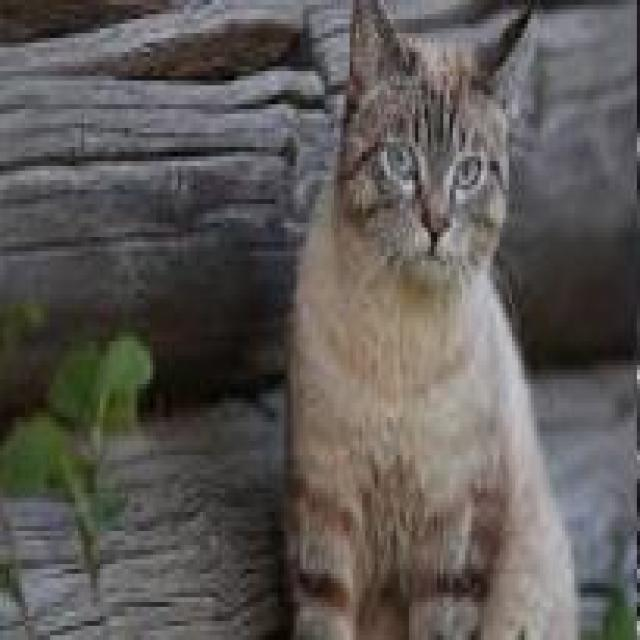Gato: (274, 0, 580, 640)
